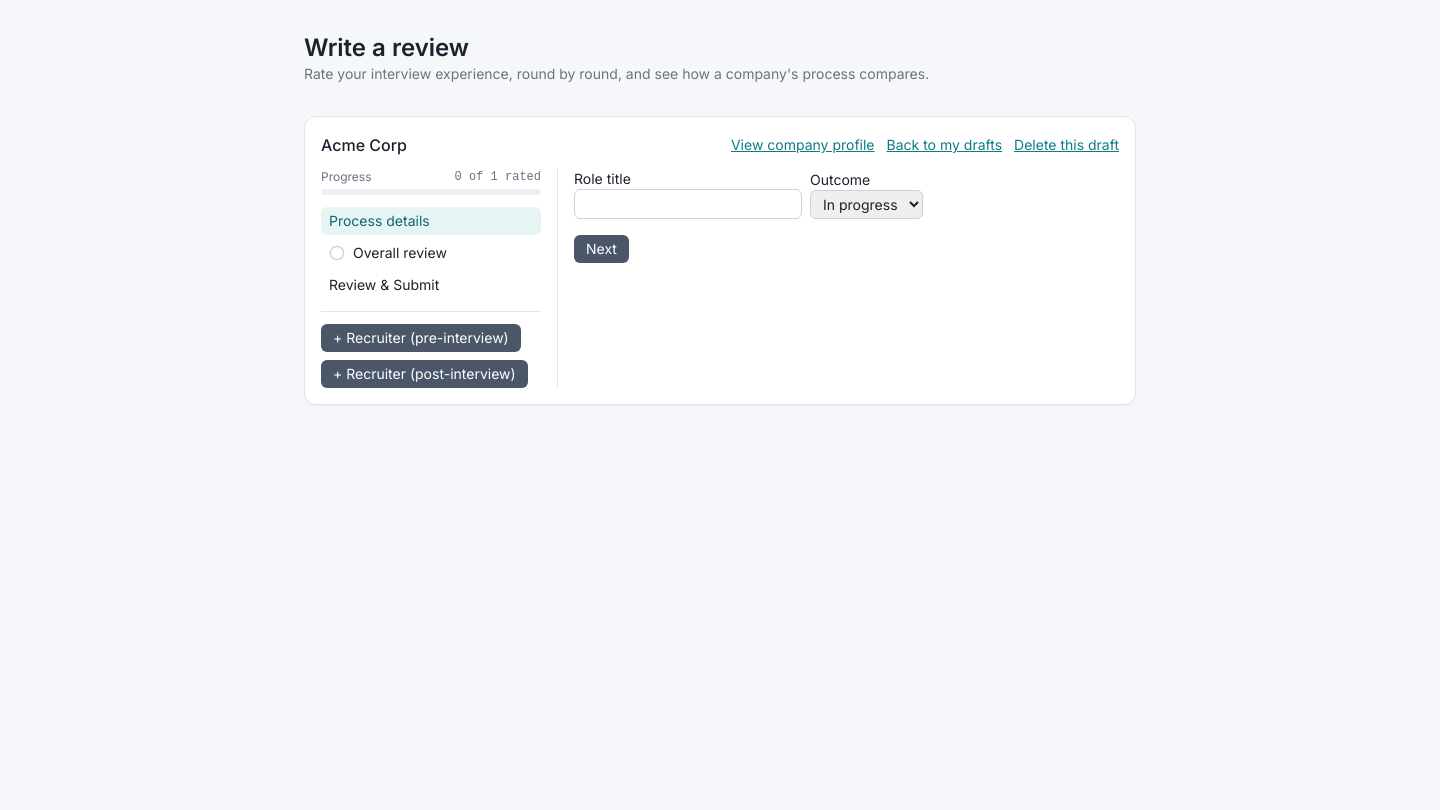
Test: Session-expiry warning mid-draft (GitHub issue #301) › shows a clear session-expired message (not the generic fallback) when submit itself gets a 401
Expected: the heading "Acme Corp" is shown, [321, 133, 407, 157]
Type "Backend Engineer" into the field labelled "Role title" at (688, 204), box [574, 189, 802, 219]
Click the button "Next" at (601, 249), box [574, 235, 629, 263]
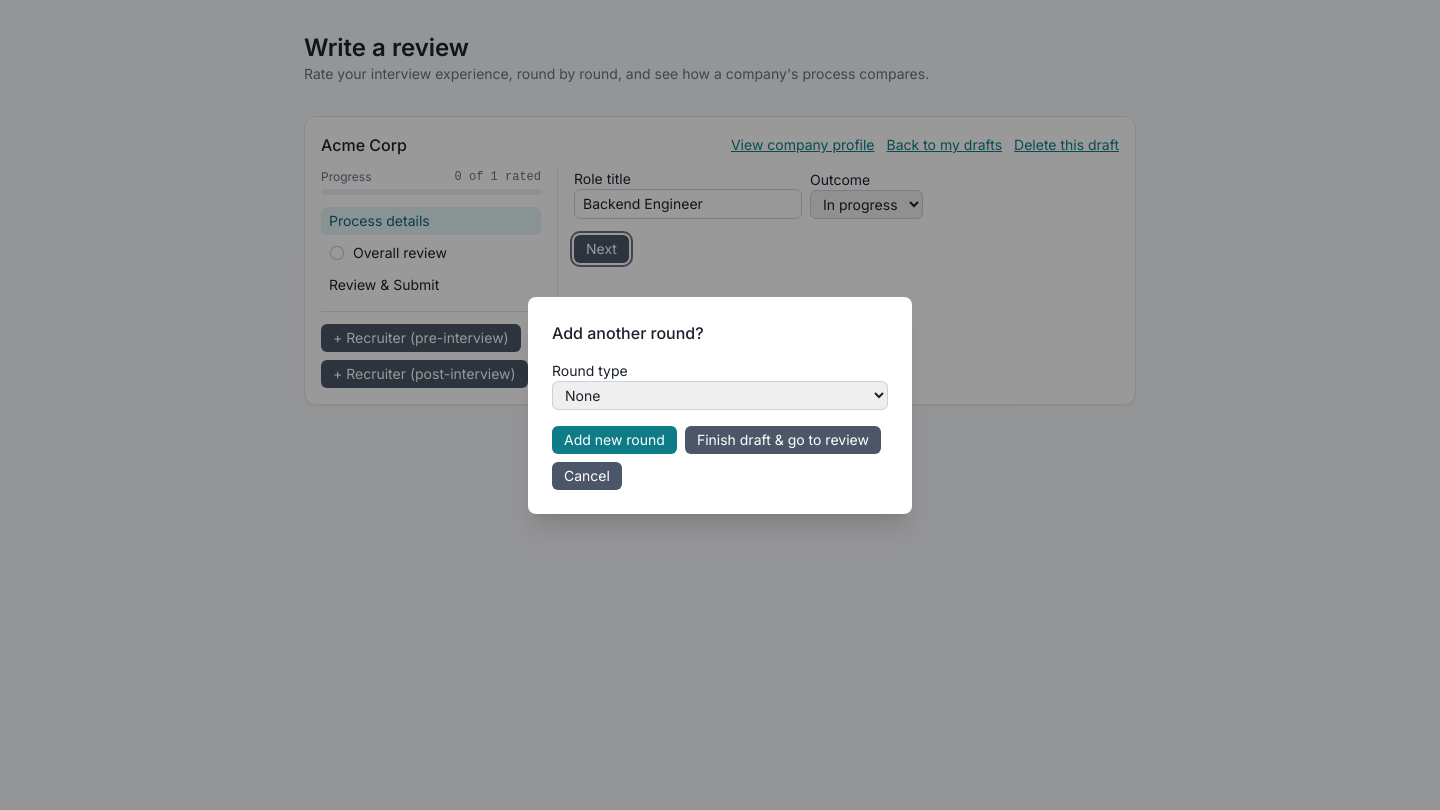
Select "Coding" in the dropdown labelled "Round type" at (720, 395), box [552, 380, 888, 410]
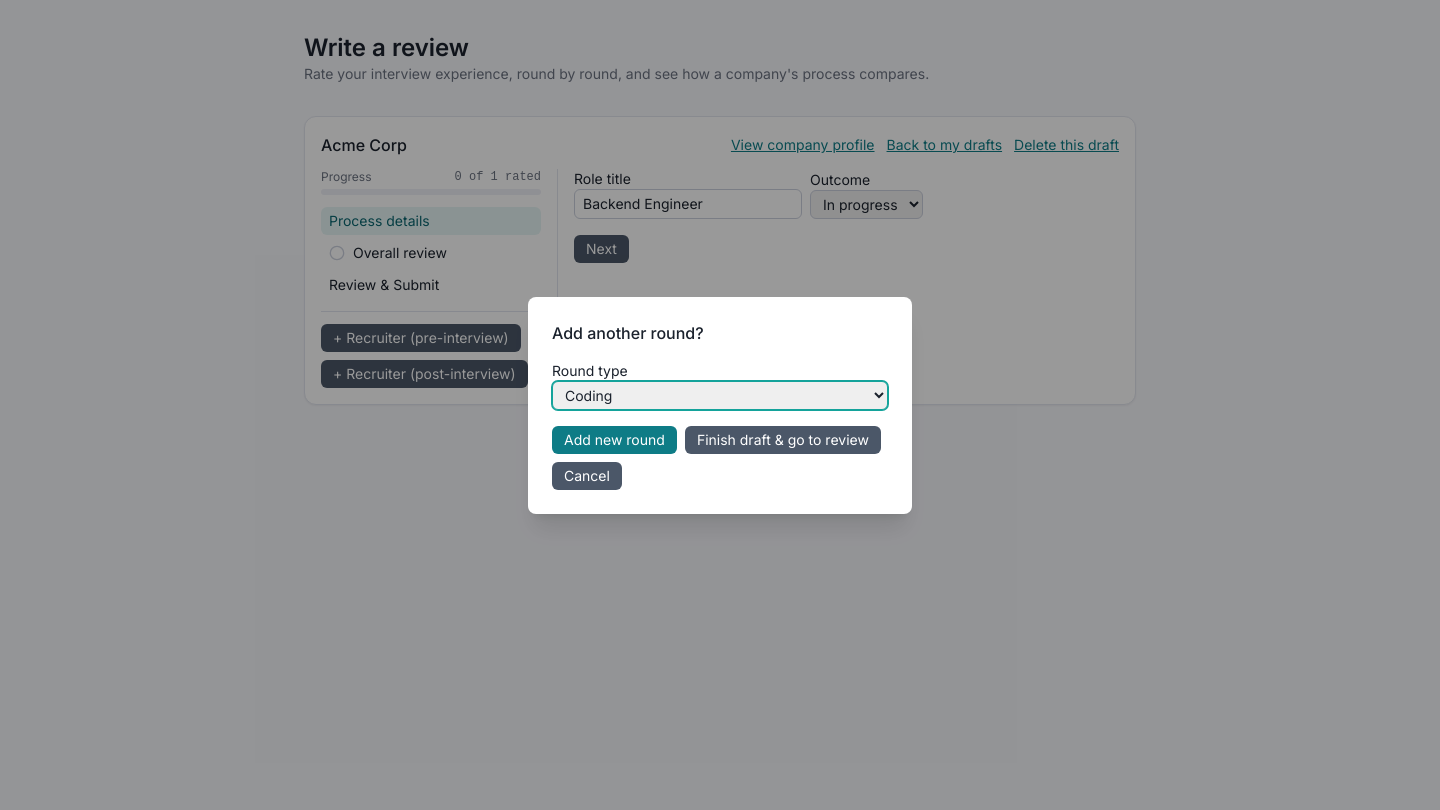
Click the button "Add new round" at (614, 440), box [552, 426, 677, 454]
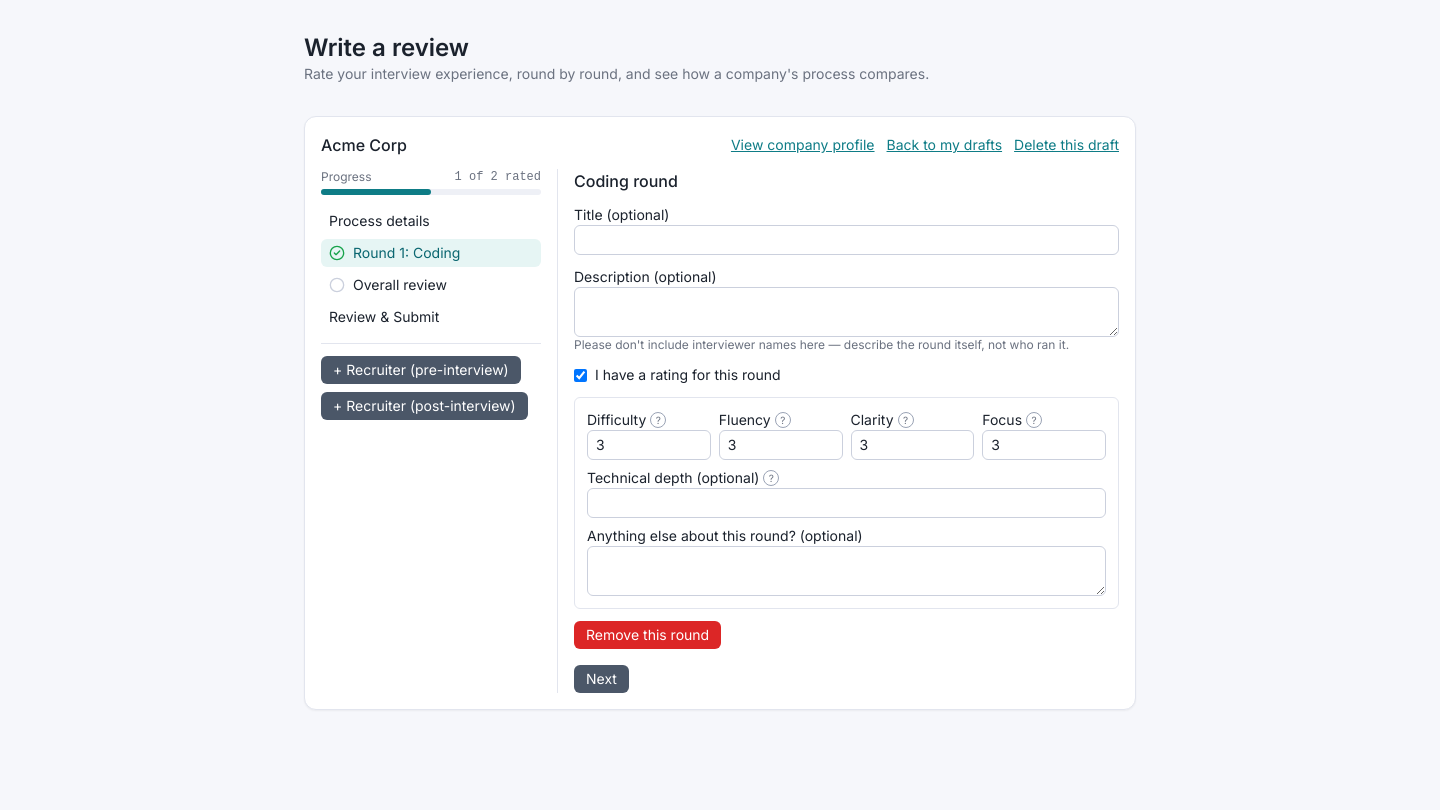
Type "Screen" into the field labelled "Title (optional)" at (846, 240), box [574, 225, 1119, 255]
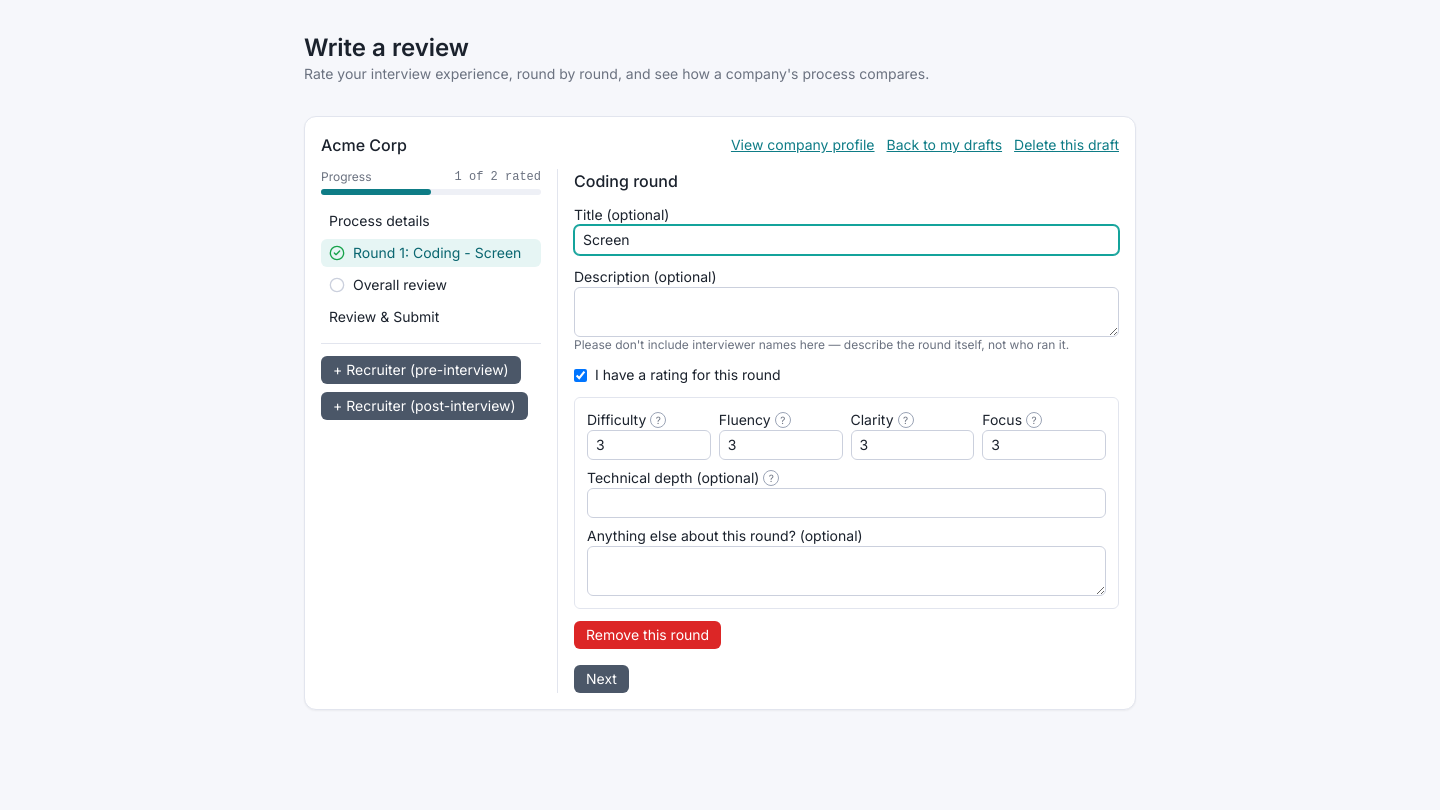
Click the button "Review & Submit" at (431, 317), box [321, 303, 541, 331]
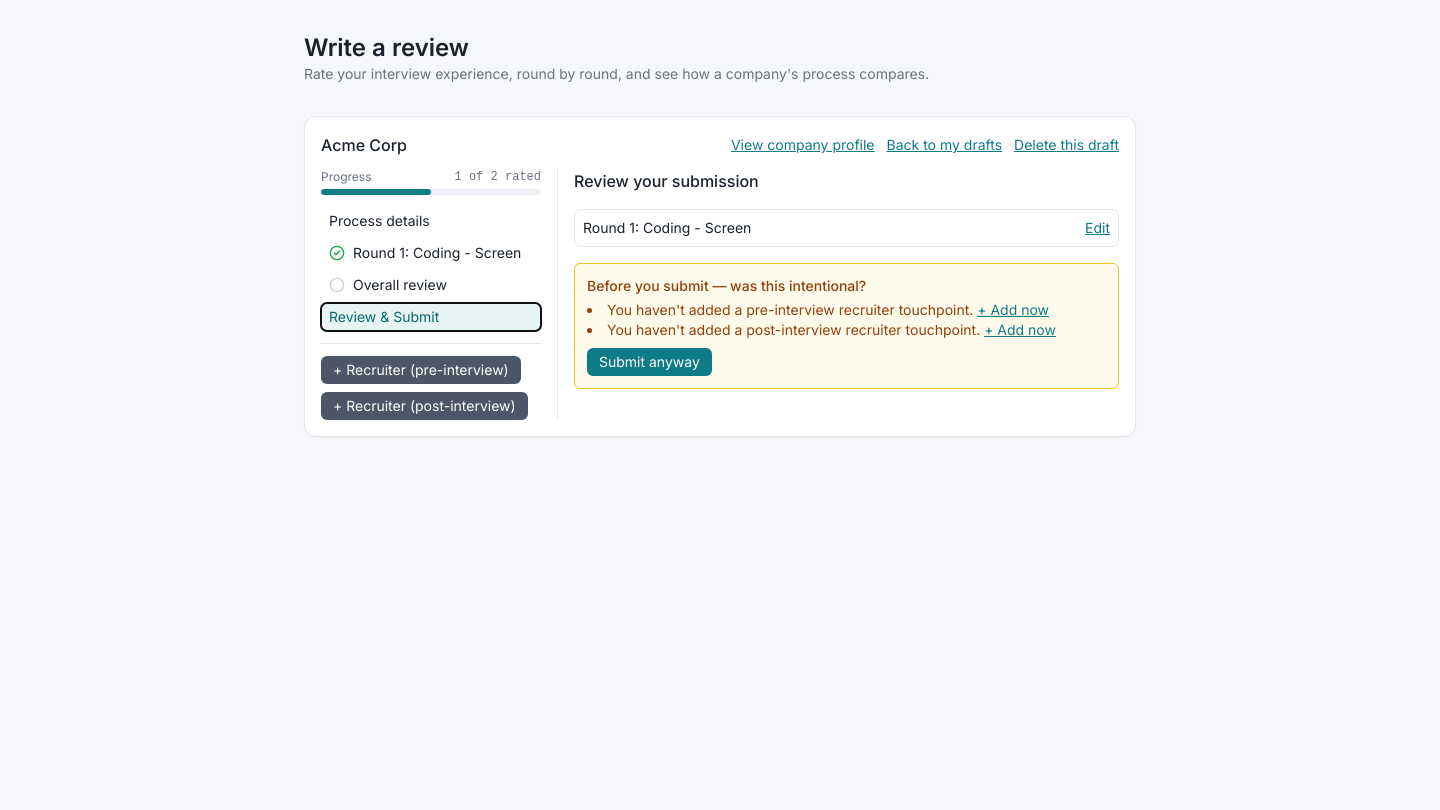
Click the button "Submit anyway" at (649, 362), box [587, 348, 712, 376]
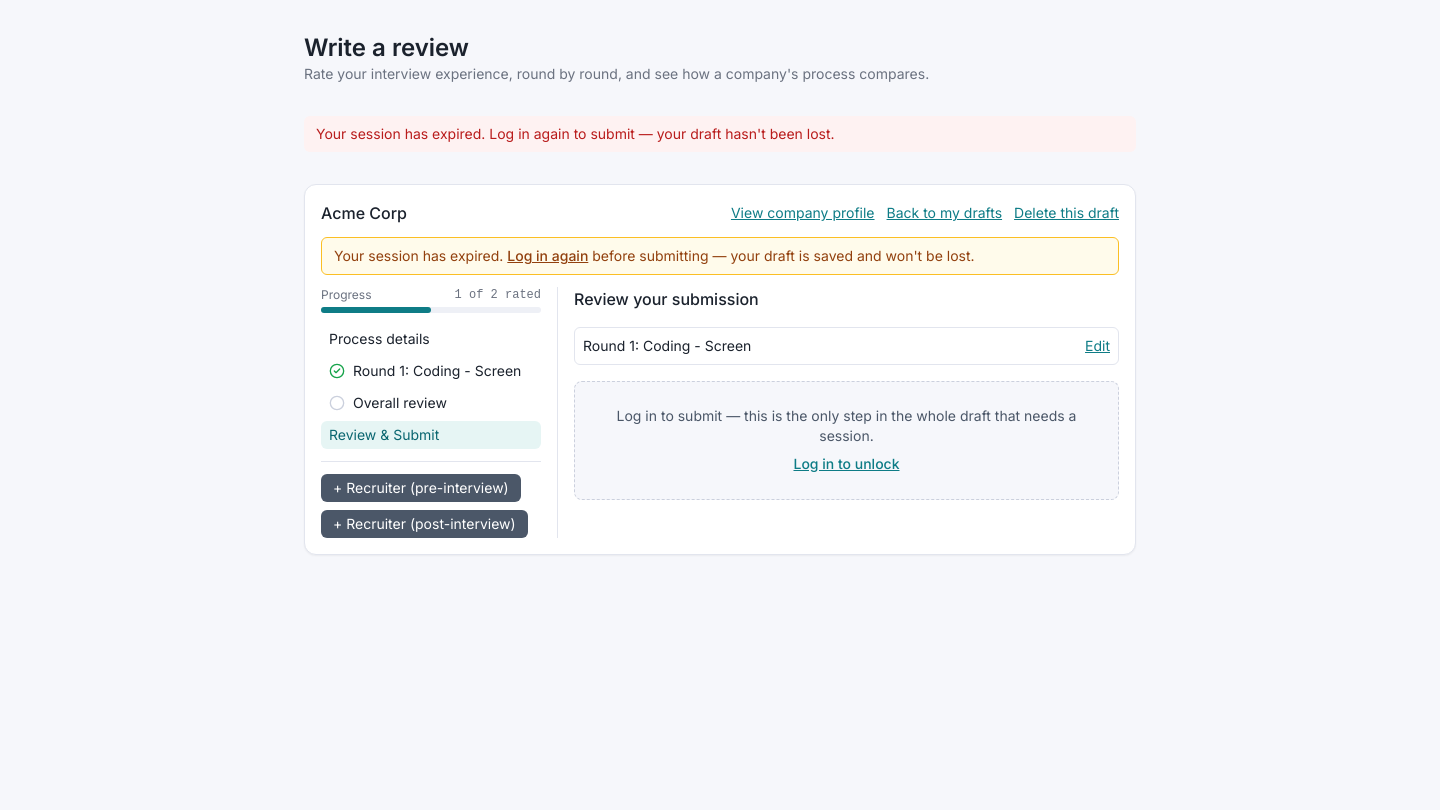
Expected: the text "Your session has expired. Log in again to submit" is shown, [316, 125, 835, 142]
Expected: the link "Log in to unlock" is shown, [794, 454, 900, 474]
